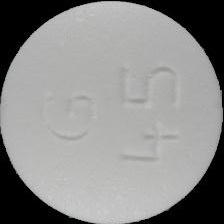53808-0717: (0, 0, 224, 224)
